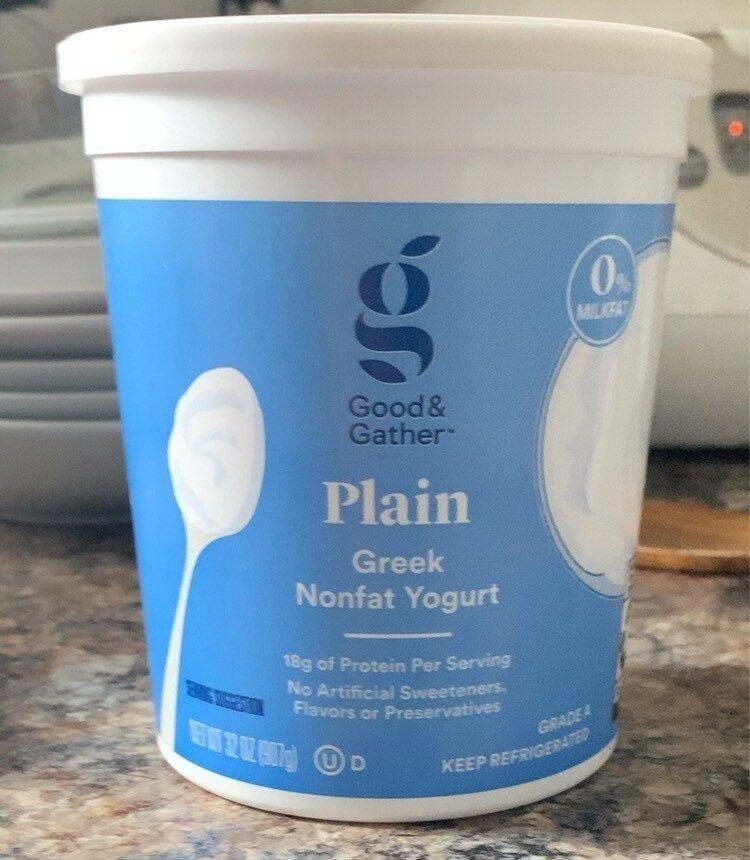plastic: (58, 15, 711, 820)
